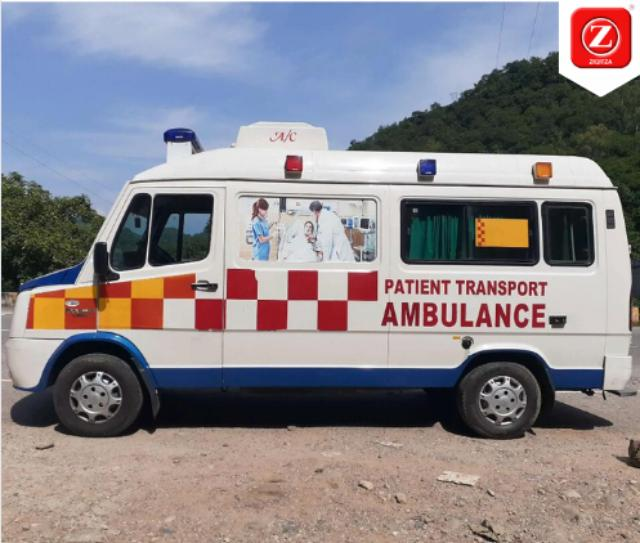ambulance: (6, 122, 631, 438)
